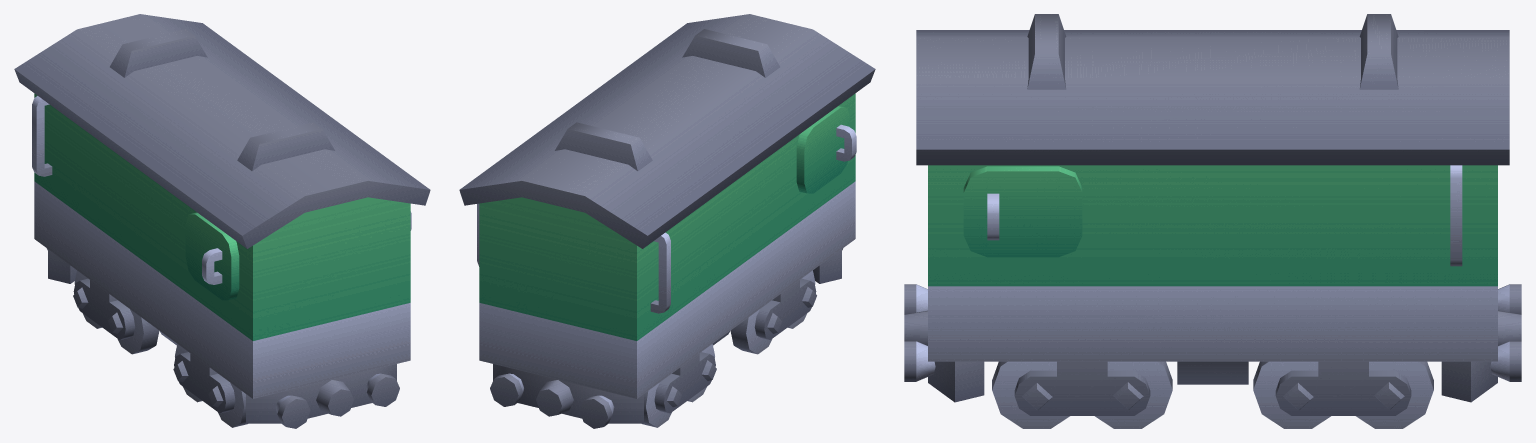
The model's file is train-diesel-box-b.glb.
3 renders of one model, left to right at view 1: azimuth 30°, elevation 25°; view 2: azimuth 150°, elevation 25°; view 3: azimuth 270°, elevation 25°, orthographic. The views are drawn at different scales.
Visible parts, largest first — view 1: train-diesel-box-b, wheels-back, wheels-front; view 2: train-diesel-box-b, wheels-front, wheels-back; view 3: train-diesel-box-b, wheels-back, wheels-front.
Part boxes in pixels (bbox=[...]): train-diesel-box-b: bbox=[14, 14, 430, 428]; wheels-back: bbox=[73, 270, 159, 354]; wheels-front: bbox=[173, 344, 247, 427]; train-diesel-box-b: bbox=[459, 14, 875, 428]; wheels-front: bbox=[730, 270, 816, 354]; wheels-back: bbox=[642, 344, 716, 427]; train-diesel-box-b: bbox=[904, 14, 1521, 402]; wheels-back: bbox=[1253, 361, 1433, 428]; wheels-front: bbox=[992, 361, 1172, 428].
Bounding box in the file's own units: 1.3 × 1.65 × 2.6.
1 material, 1 textured.
